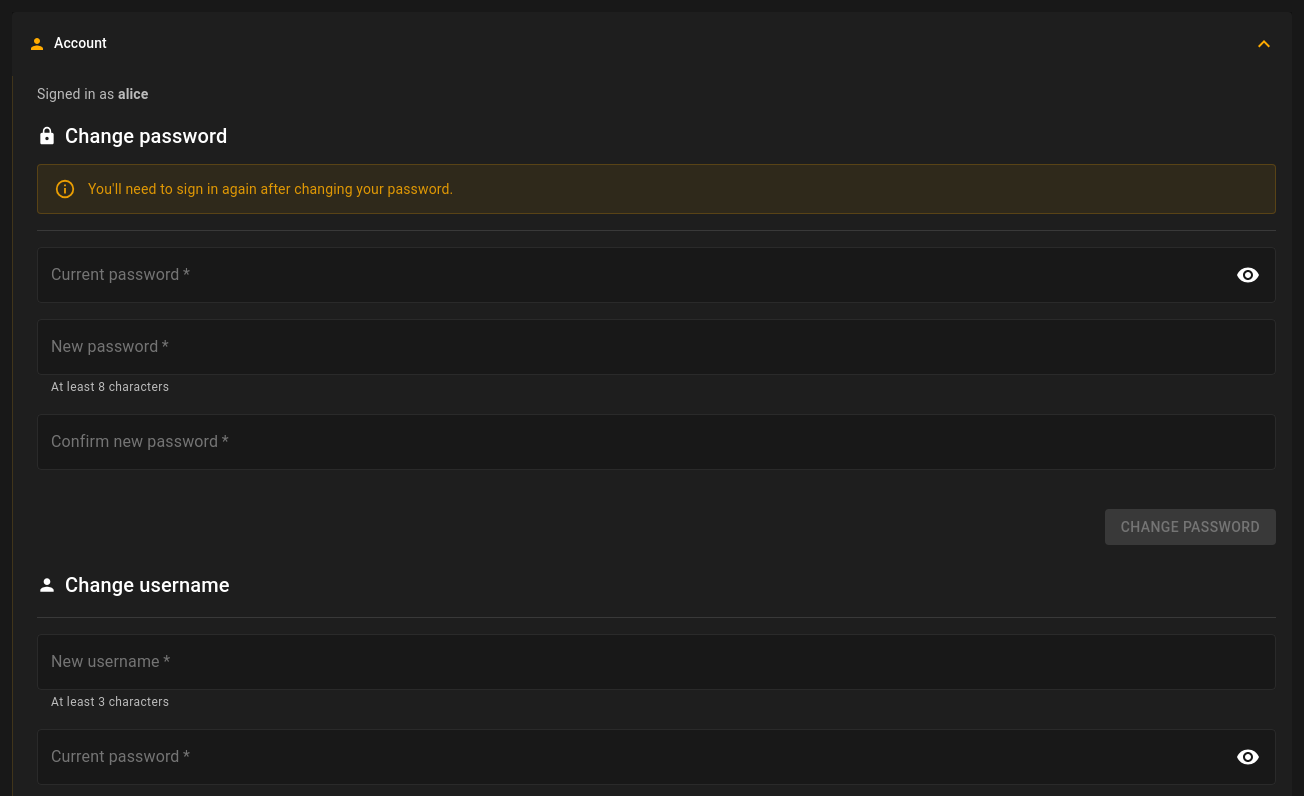
Test: AccountAccordion › shows API error message when changePassword fails
Type "badpass" into the 1st password field labelled "Current password *".
click(630, 275); type("badpass")  # box [37,247,1223,303]
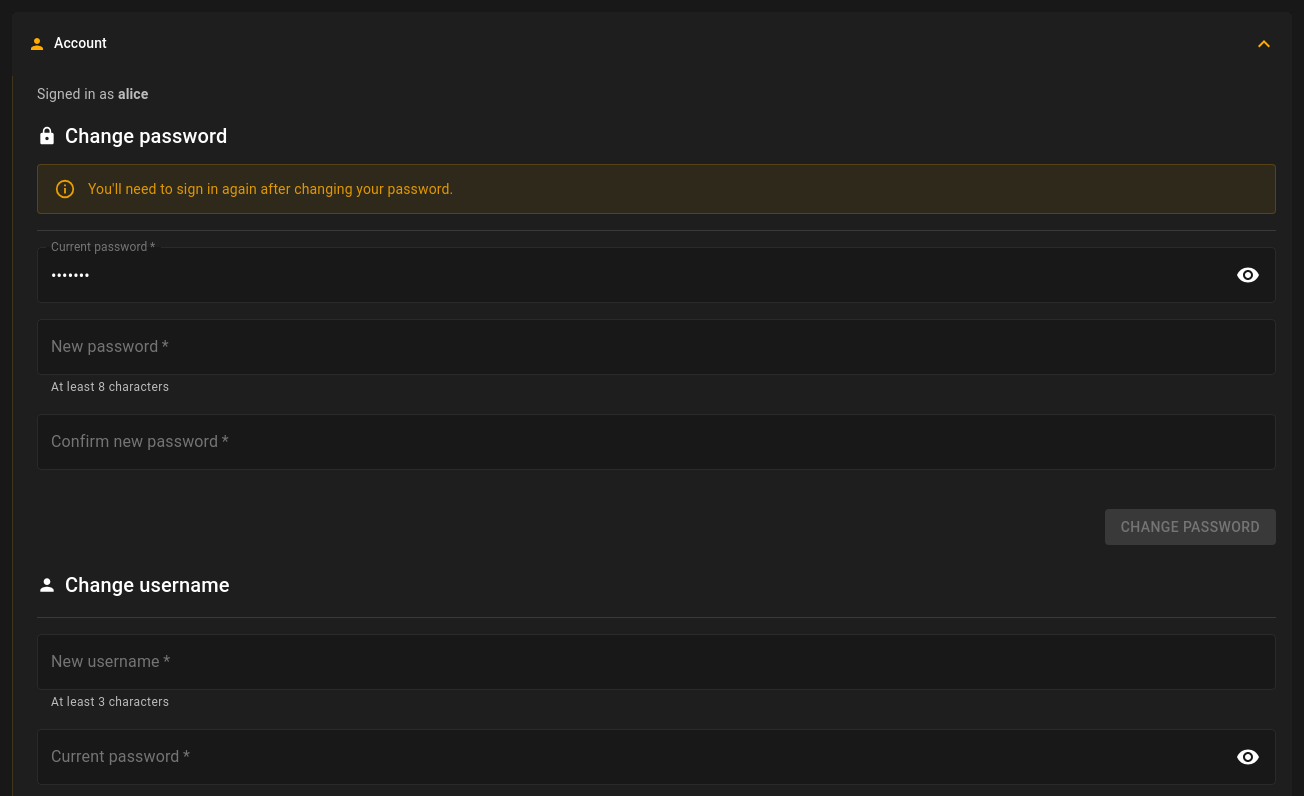
Type "newpassword123" into the password field labelled "New password *".
click(656, 347); type("newpassword123")  # box [37,319,1276,375]
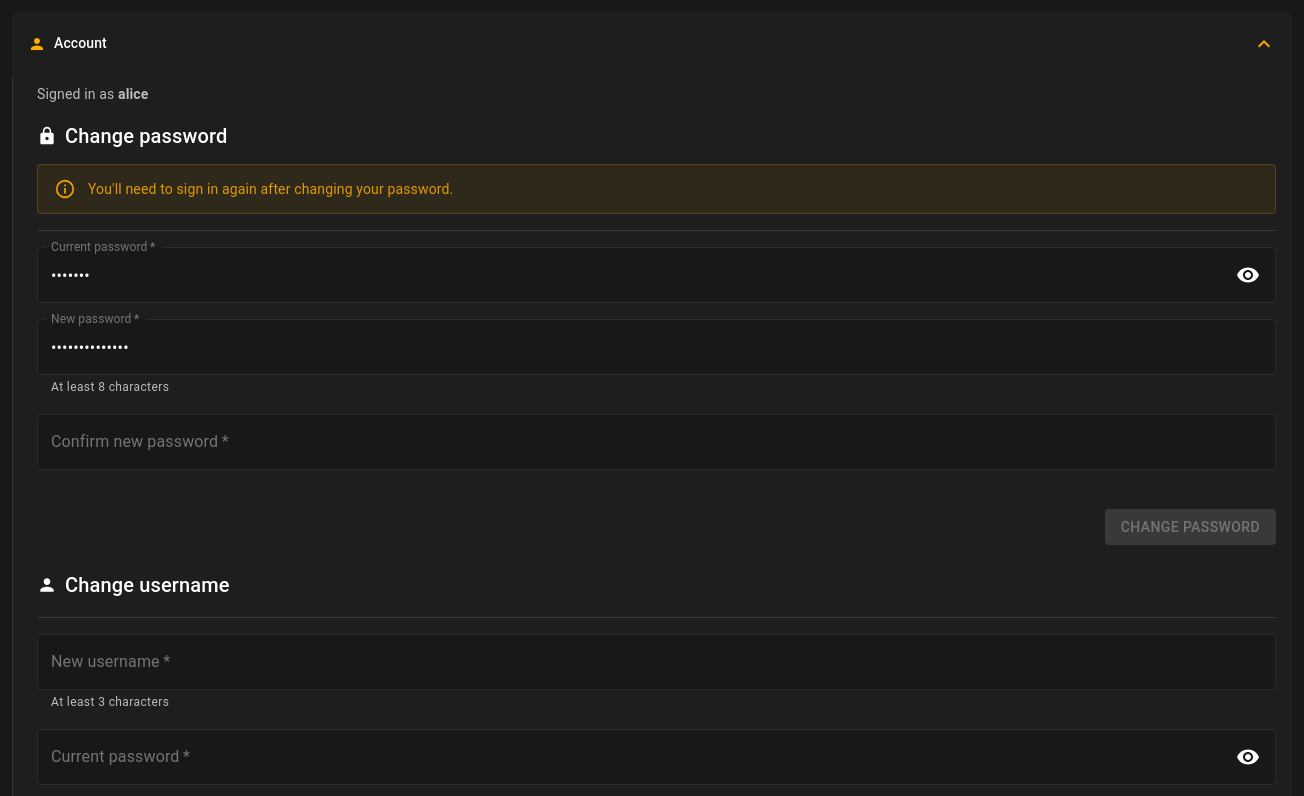
Type "newpassword123" into the password field labelled "Confirm new password *".
click(656, 442); type("newpassword123")  # box [37,414,1276,470]
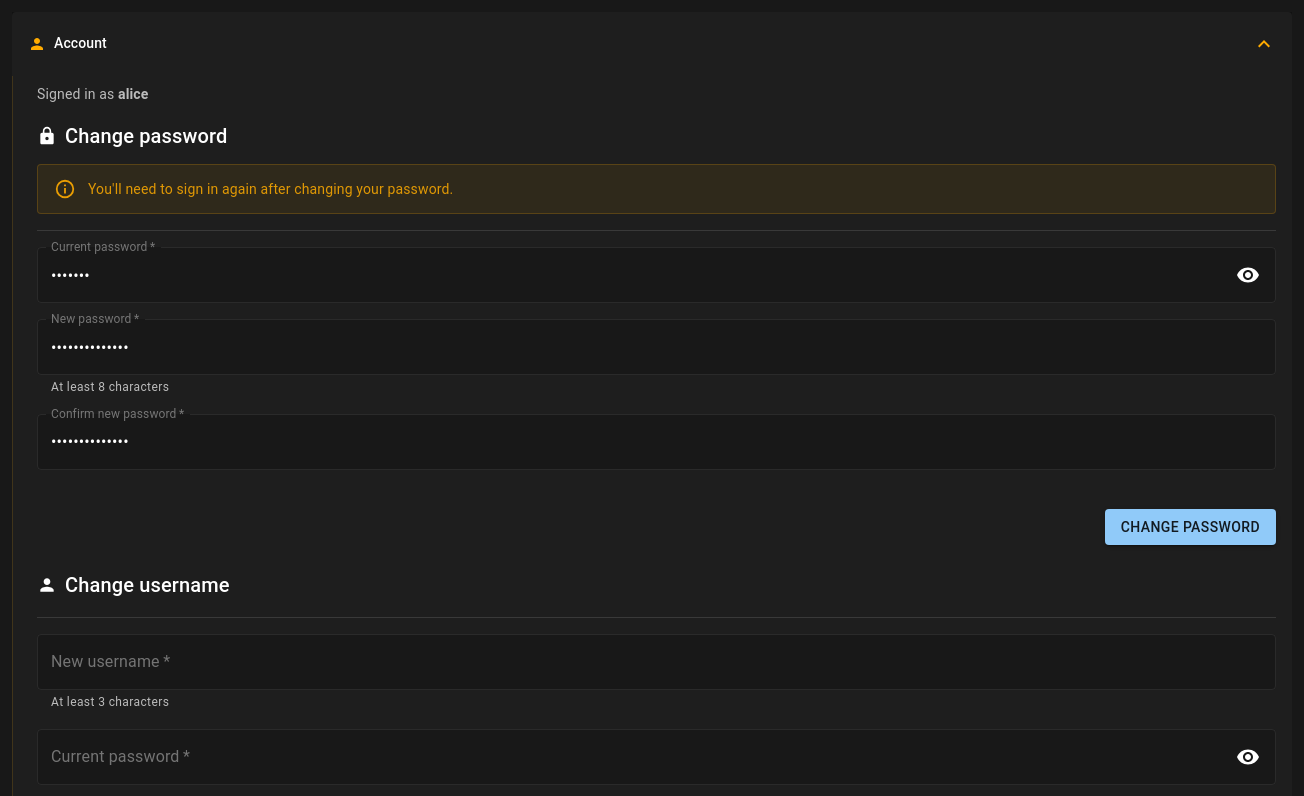
Click the button "Change password".
click(1190, 527)  # box [1105,509,1276,545]
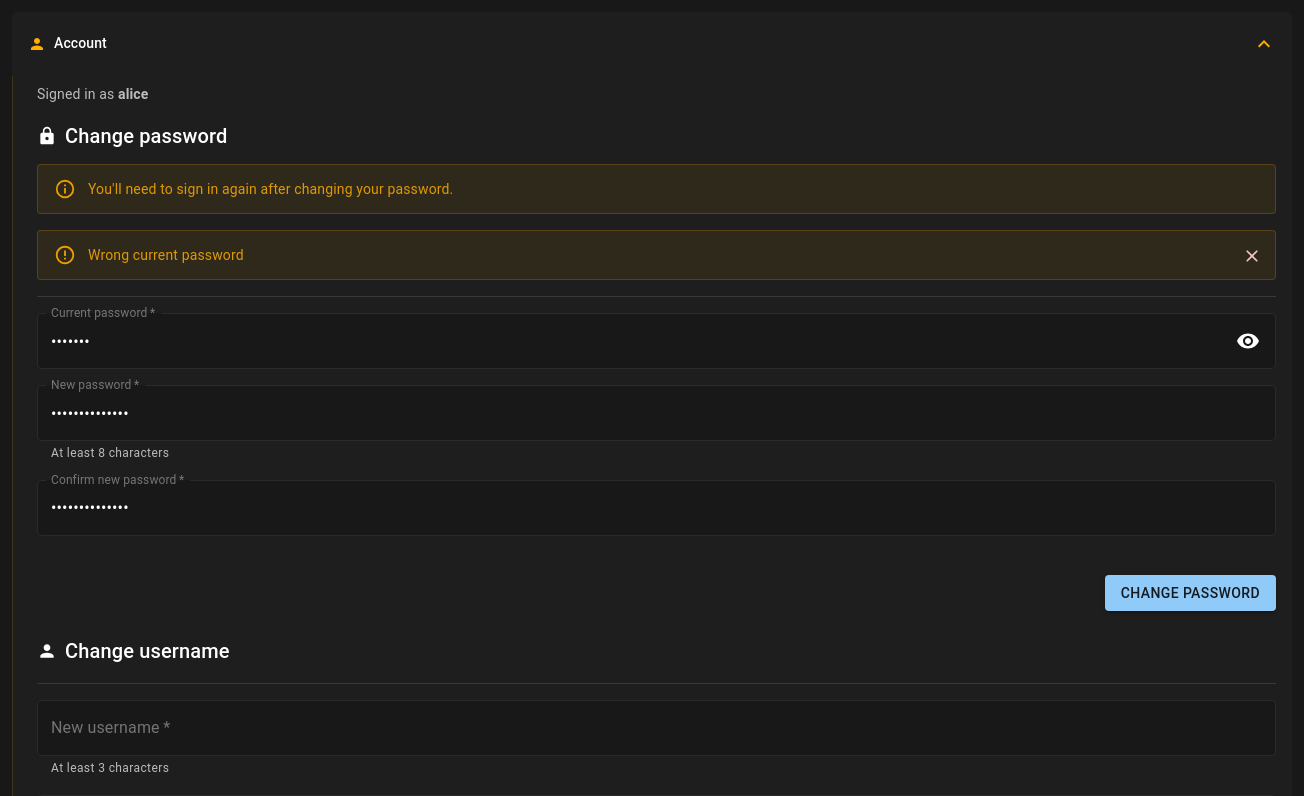
Now the text "Wrong current password" is shown, box [88,247,244,263]
